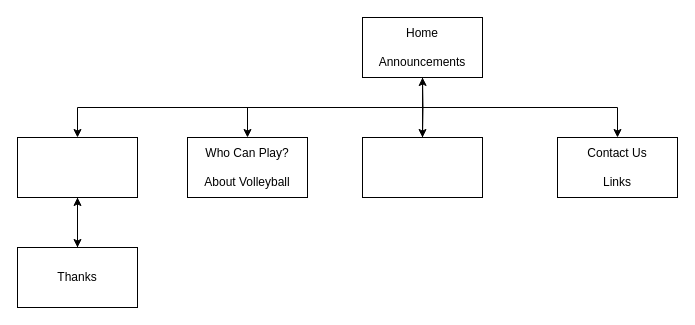
This 695x325 diagram has some shape labels left out. Each missing label, with the centre of its shape:
"Ladder" goes at [422,167].
"Sign Up Playing Guidlines" goes at [77,167].
